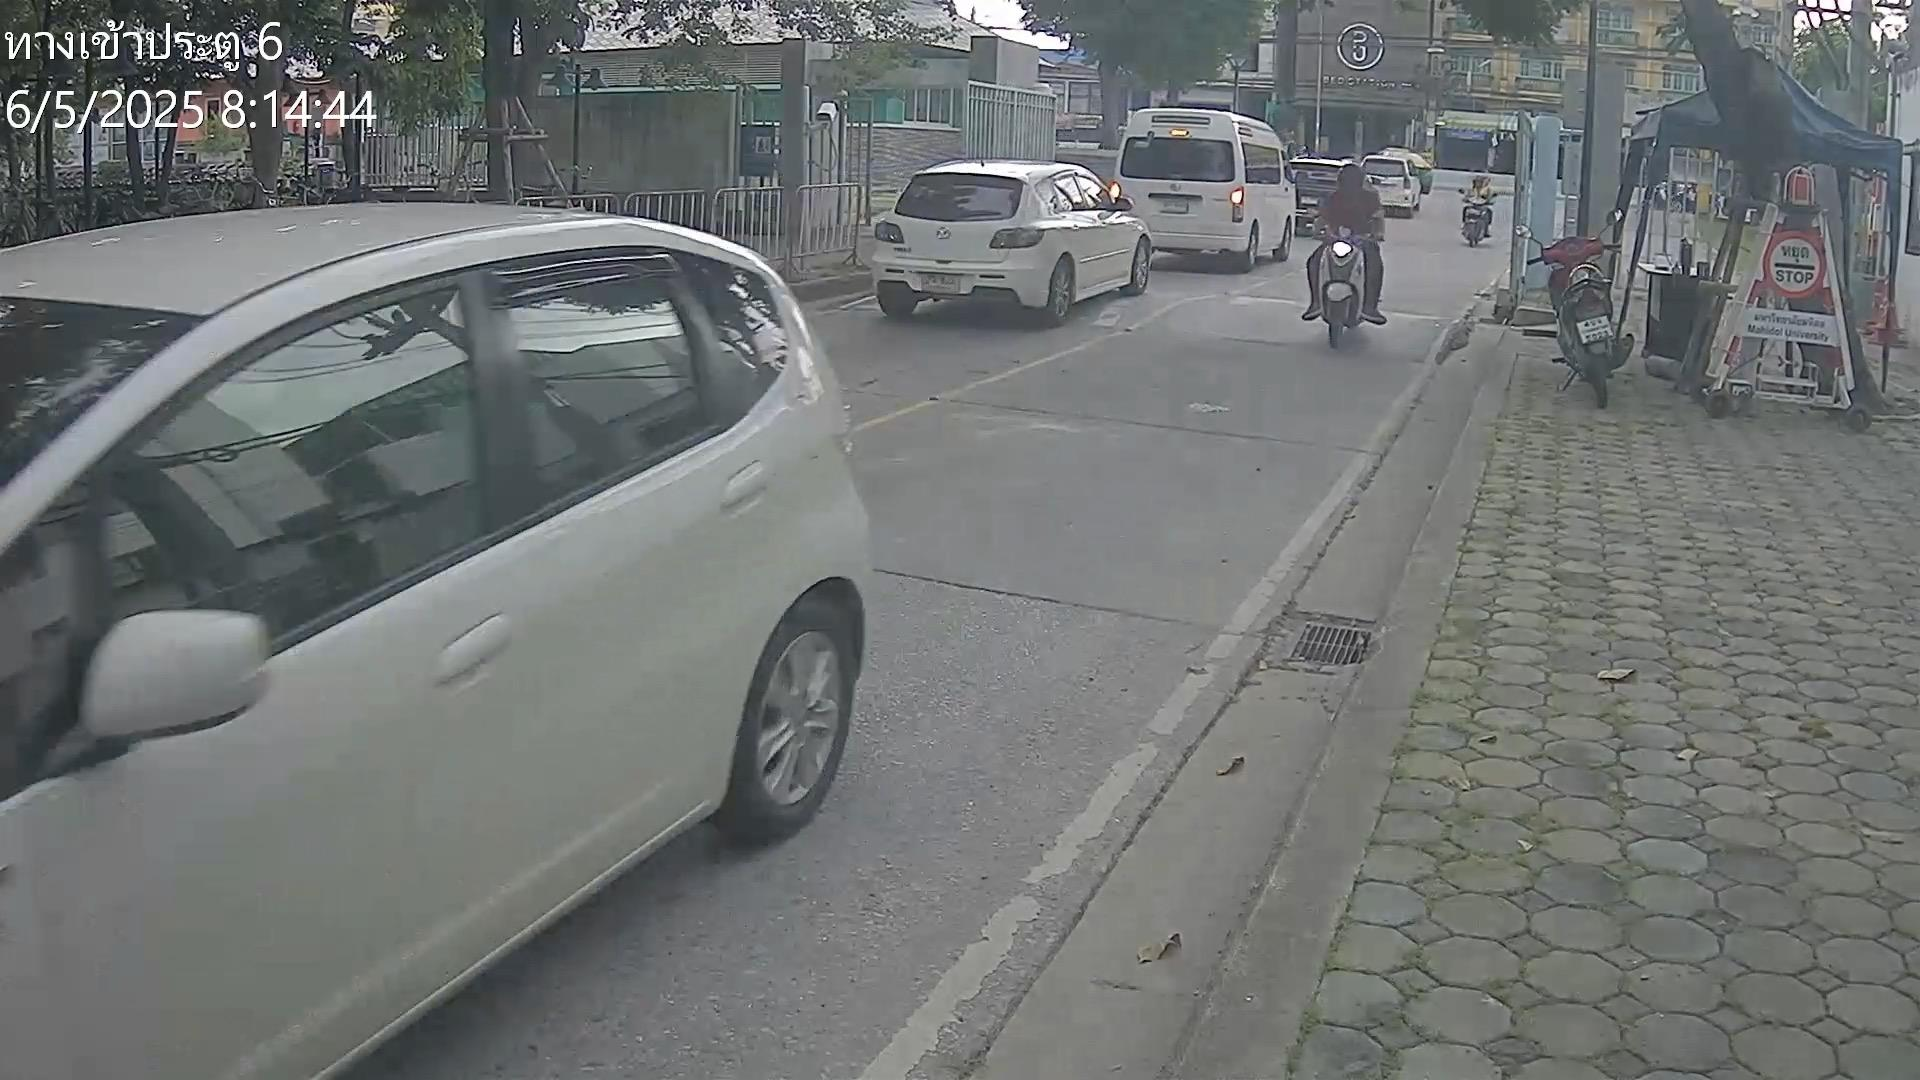With-Helmet: (1337, 162, 1364, 196)
